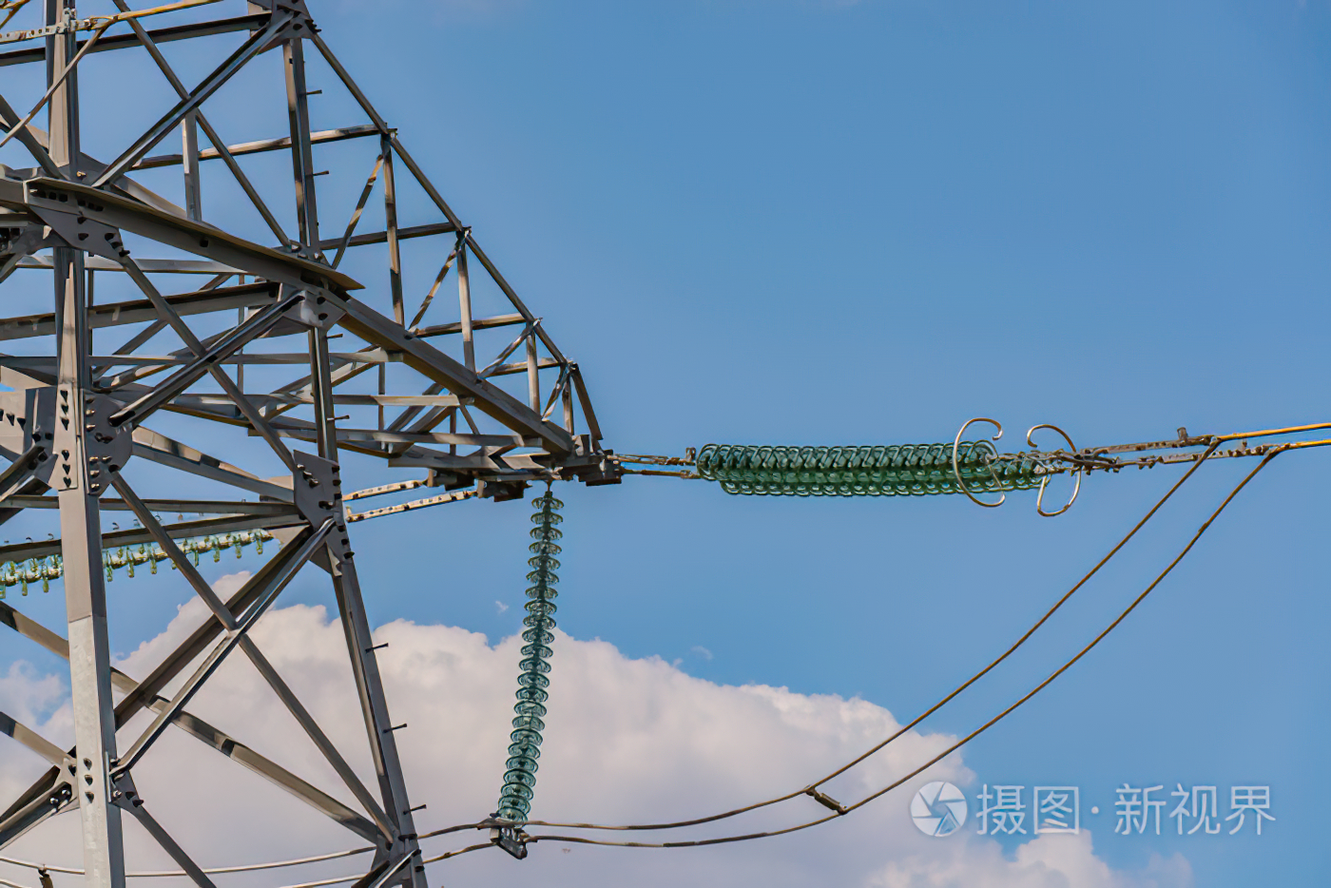insulator: (495, 492, 568, 822), (695, 439, 1052, 502), (3, 521, 267, 597)
